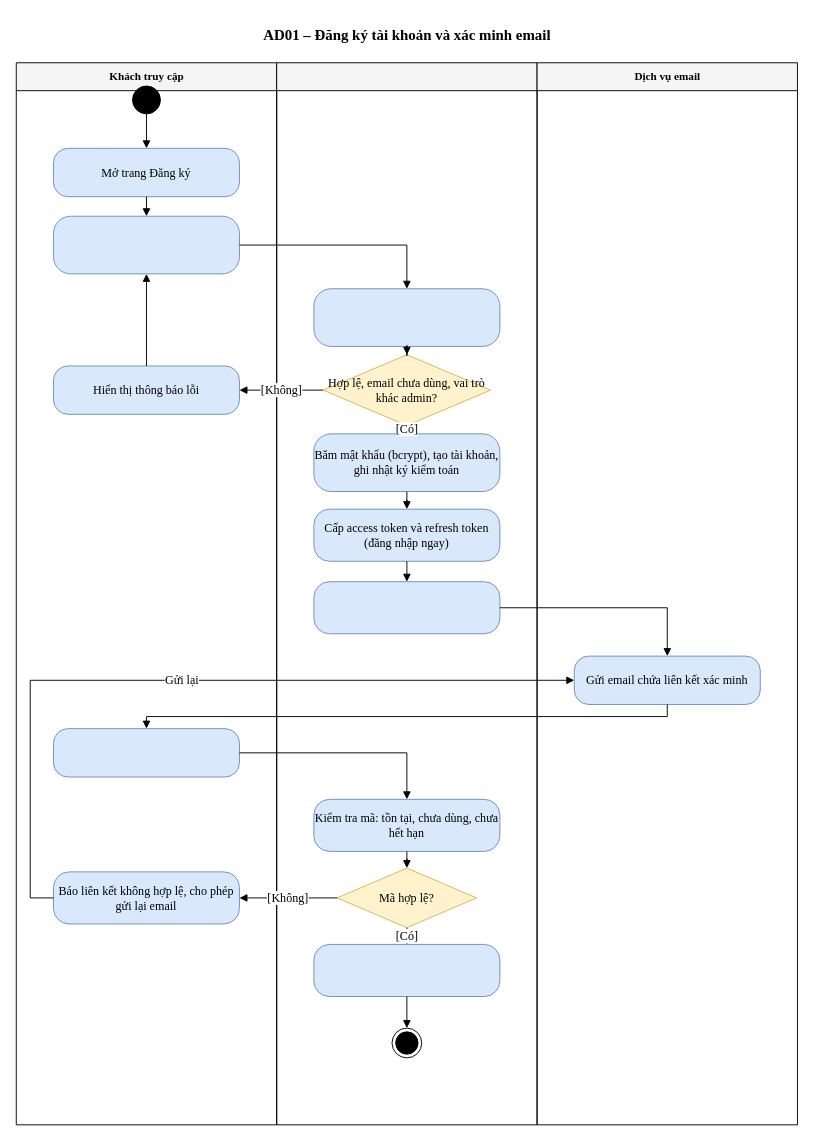
Image size: 814x1141. Some labels were removed from this diagram. The box of each missing label's shape, as (x1, y1, x2, y2) in pixels:
Hệ thống: (276, 62, 537, 1125)
Kiểm tra dữ liệu (định dạng email, độ dài mật khẩu, giới hạn tần suất): (313, 288, 500, 346)
Mở liên kết xác minh trong email: (53, 728, 239, 777)
Nhập họ tên, email, mật khẩu, chọn vai trò (Người tài trợ / Chủ dự án): (53, 215, 239, 274)
Tạo mã xác minh (lưu dạng băm, hiệu lực 24 giờ): (313, 581, 500, 634)
Đánh dấu email đã xác minh, vô hiệu mã, ghi nhật ký: (313, 943, 500, 996)
